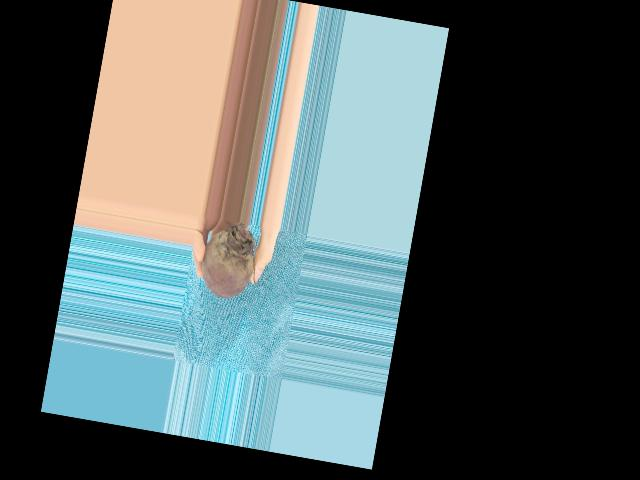beet: (196, 218, 267, 303)
